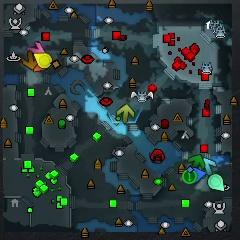p1: (191, 168, 206, 184)
p2: (208, 174, 225, 192)
p4: (32, 51, 53, 70)
p5: (34, 64, 45, 74)
x1: (27, 42, 46, 55)
x2: (118, 104, 134, 123)
x3: (203, 156, 216, 175)
x4: (189, 154, 205, 170)
x5: (21, 51, 38, 70)
